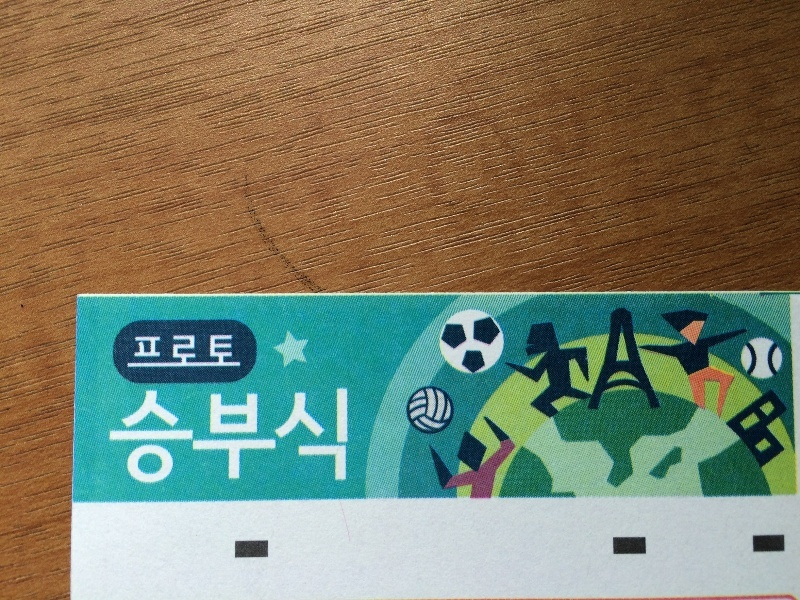text: (609, 306, 624, 412), (625, 306, 640, 412), (641, 306, 656, 412), (113, 386, 128, 487), (129, 386, 144, 487), (145, 386, 160, 487), (161, 386, 176, 487), (177, 386, 192, 487), (193, 386, 208, 487), (209, 386, 224, 487), (225, 386, 240, 487), (241, 386, 256, 487), (257, 386, 272, 487), (273, 386, 288, 487), (289, 386, 304, 487), (305, 386, 320, 487), (321, 386, 336, 487), (337, 386, 351, 487), (657, 306, 663, 412), (145, 333, 160, 372), (161, 333, 176, 372), (177, 333, 192, 372), (193, 333, 208, 372), (209, 333, 224, 372), (225, 333, 240, 372), (108, 386, 112, 487), (134, 333, 144, 372), (241, 333, 243, 372)
